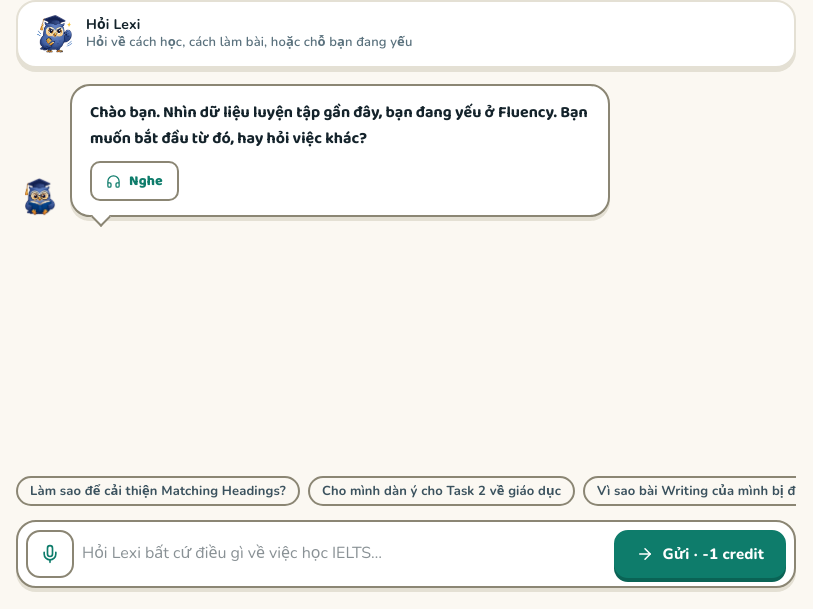
Test: AiChatPage — the voice pair (listen + speak) › puts the MIC TRANSCRIPT INTO THE INPUT instead of sending it
Click the button named "Ghi âm câu hỏi": (50, 554) [26,530,74,578]
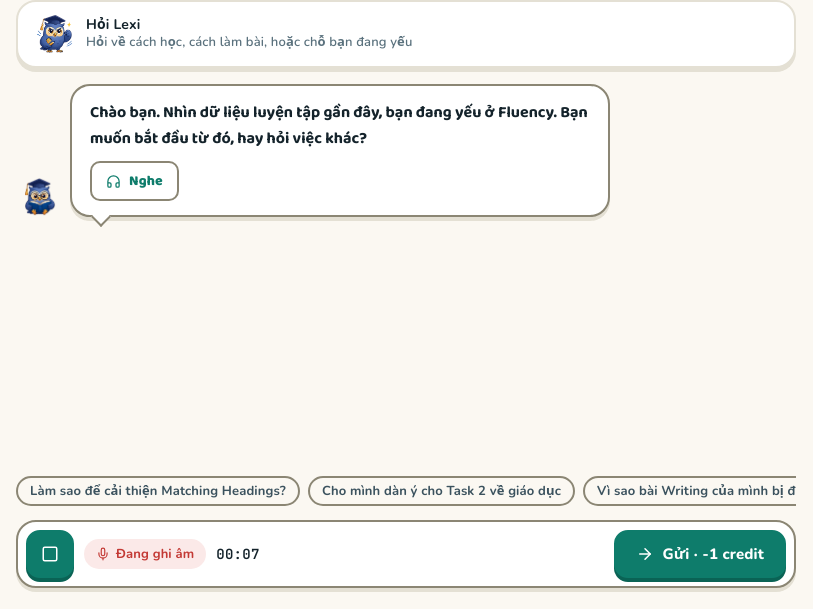
Click the button named "Dừng ghi âm": (50, 554) [26,530,74,578]
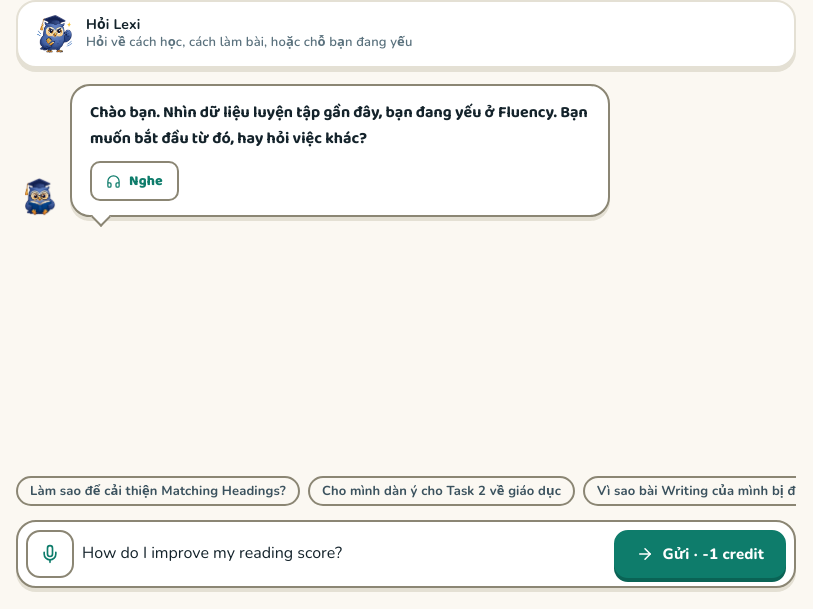
Now the field with placeholder "Hỏi Lexi bất cứ điều gì về việc học IELTS…" holds "How do I improve my reading score?", box [82,534,606,574]
